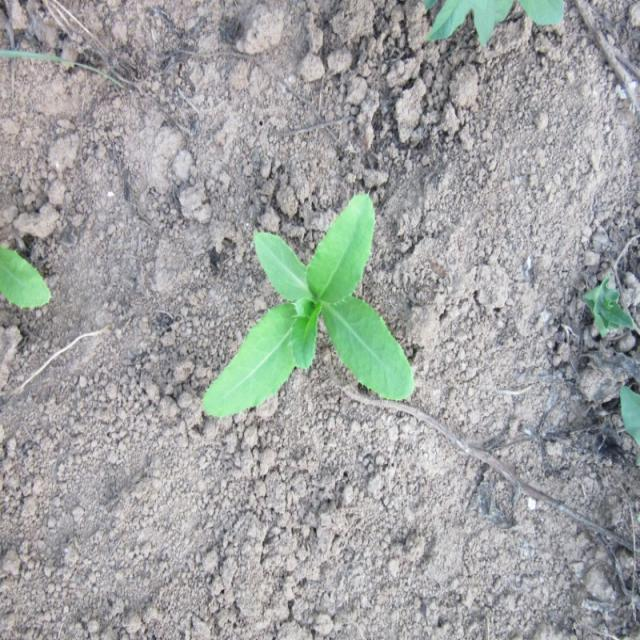cs: (199, 183, 418, 431)
